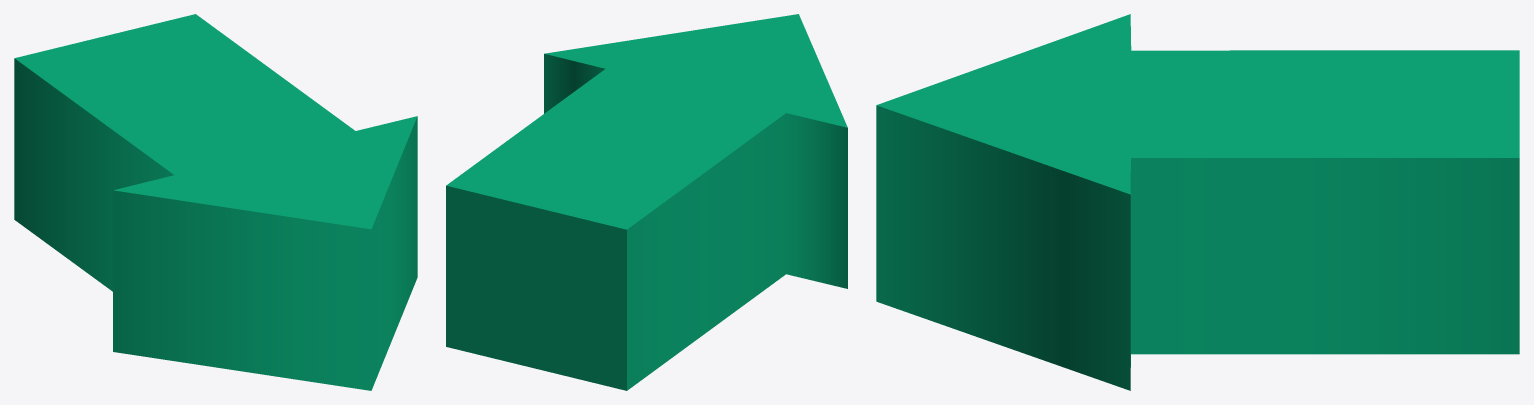
File: Arrow.fbx
3 renders of one model, left to right at view 1: azimuth 30°, elevation 25°; view 2: azimuth 150°, elevation 25°; view 3: azimuth 270°, elevation 25°, orthographic. The views are drawn at different scales.
Visible parts, largest first — view 1: Box01; view 2: Box01; view 3: Box01.
Part boxes in pixels (bbox=[...]): Box01: bbox=[14, 14, 417, 390]; Box01: bbox=[446, 14, 847, 390]; Box01: bbox=[876, 14, 1519, 390].
Bounding box in the file's own units: 25.26 × 12.81 × 38.03.
